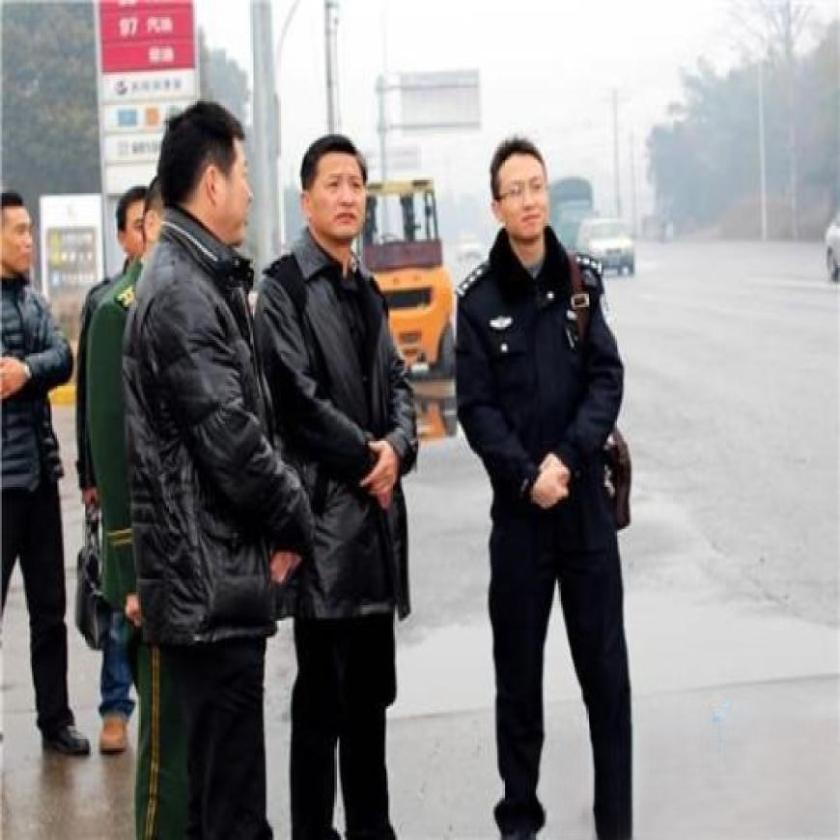Sin_casco: (157, 97, 253, 232), (282, 138, 375, 251), (481, 132, 543, 250), (0, 179, 47, 282)
